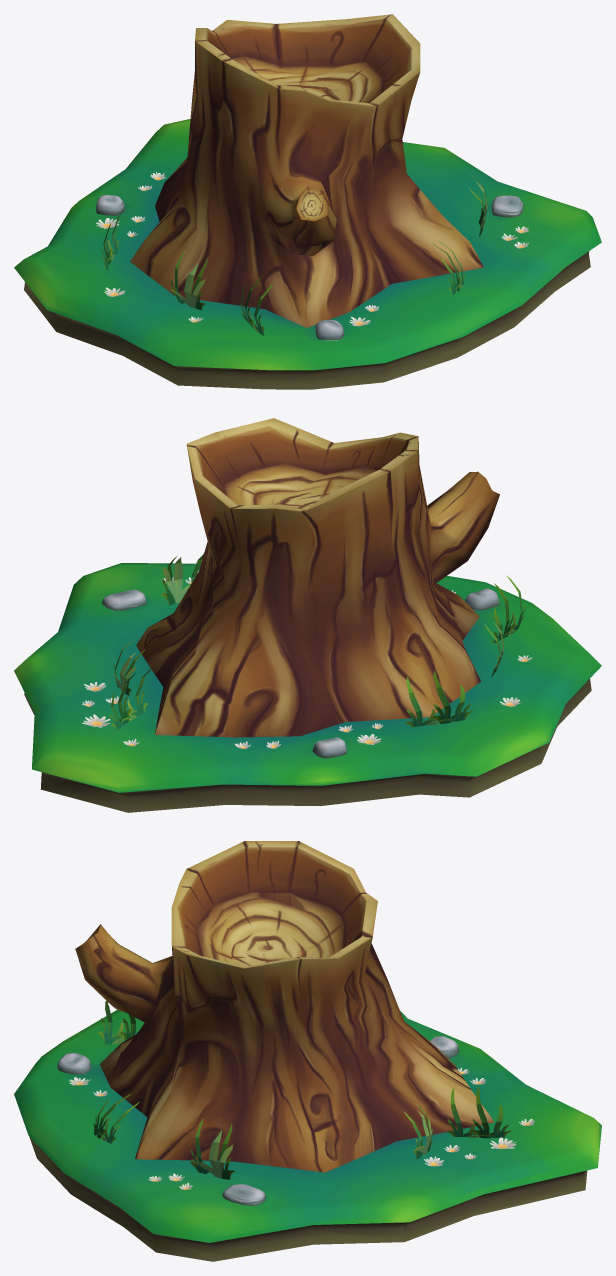
The picture shows the model from 3 angles, top to bottom: view 1: azimuth 30°, elevation 25°; view 2: azimuth 150°, elevation 25°; view 3: azimuth 270°, elevation 25°; orthographic projection. The views are drawn at different scales.
Visible parts, largest first — view 1: Cube.001; view 2: Cube.001; view 3: Cube.001.
Part boxes in pixels (x1,y1,x2,y2): Cube.001: [14, 14, 601, 389]; Cube.001: [14, 418, 601, 812]; Cube.001: [14, 841, 601, 1261].
Bounding box in the file's own units: 99.12 × 47.47 × 100.
4 materials, 4 textured.
